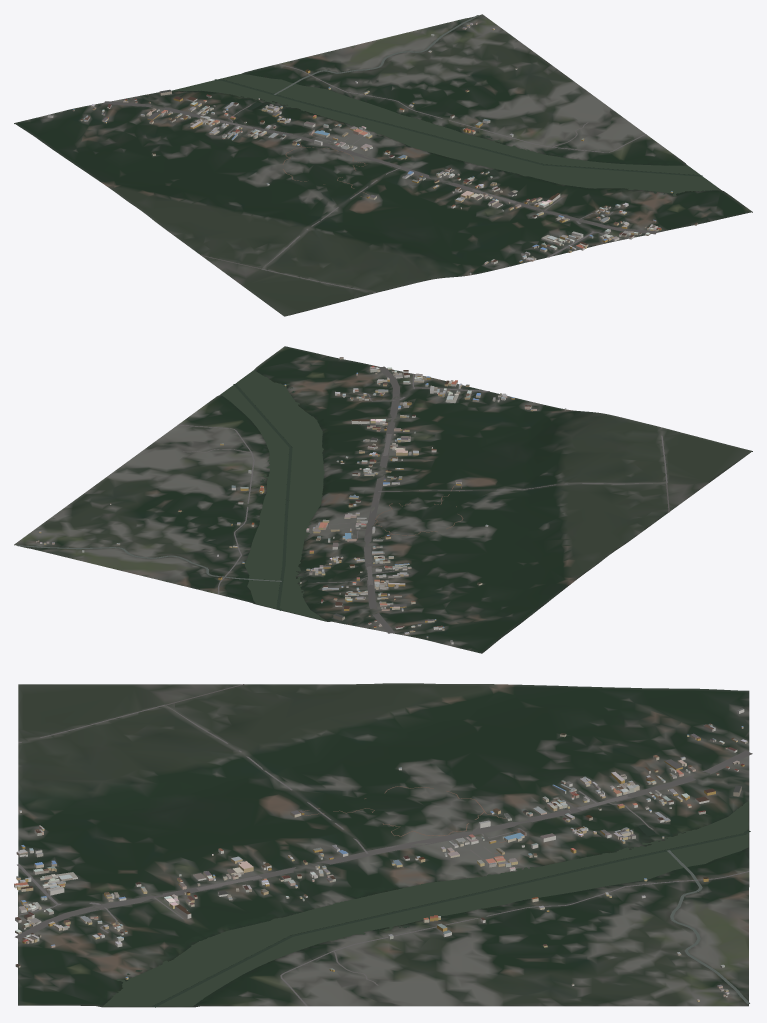
The picture shows the model from 3 angles, top to bottom: view 1: azimuth 30°, elevation 25°; view 2: azimuth 150°, elevation 25°; view 3: azimuth 270°, elevation 25°; orthographic projection. The views are drawn at different scales.
Visible parts, largest first — view 1: ground, water, buildings, roads; view 2: ground, water, buildings, roads; view 3: ground, water, buildings, roads.
Part boxes in pixels (x1,y1,x2,y2): ground: (14, 14, 752, 316); water: (171, 15, 720, 196); buildings: (47, 22, 697, 274); roads: (104, 64, 656, 292); ground: (14, 346, 752, 653); water: (17, 370, 327, 620); buildings: (36, 357, 566, 644); roads: (178, 366, 669, 633); ground: (18, 683, 749, 1007); water: (103, 801, 750, 1007); buildings: (14, 708, 747, 1001); roads: (15, 684, 752, 1006).
Bounding box in the file's own units: 1403 × 38.11 × 1416.
